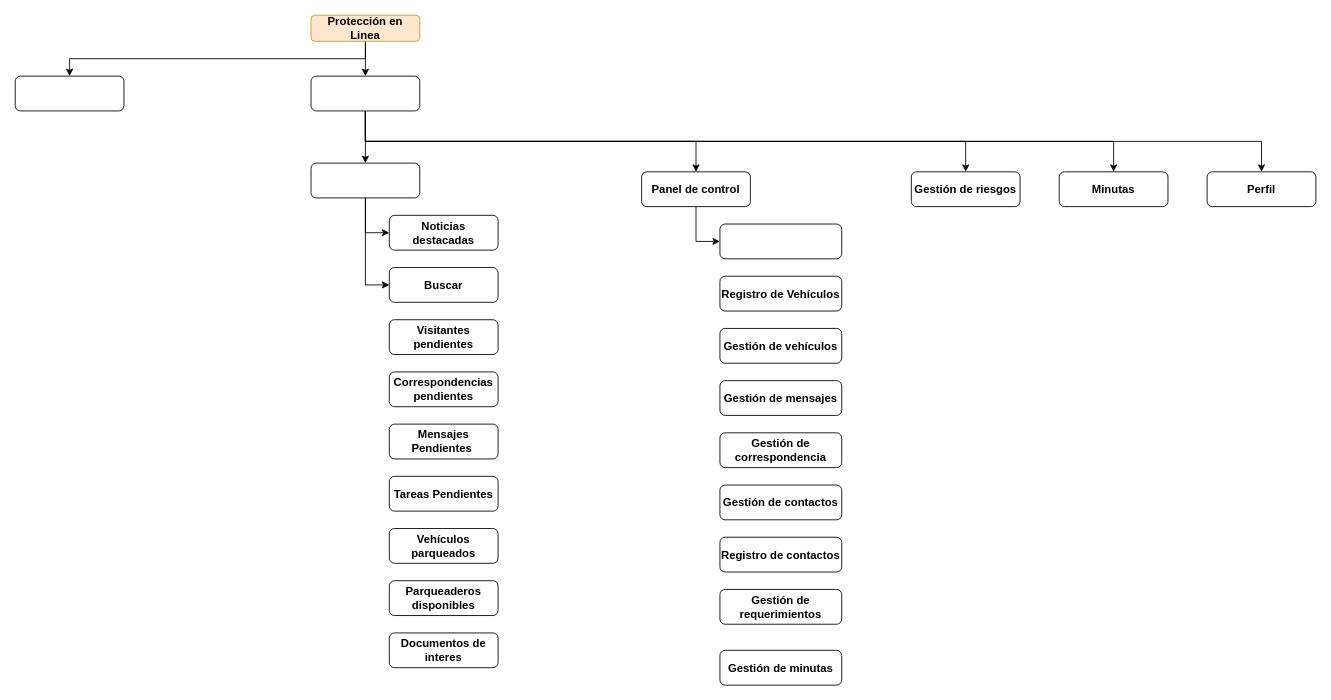
This 1331x700 diagram has some shape labels left out. Each missing label, with the box of its shape:
Administración: (14, 75, 124, 111)
Gestión de visitantes: (719, 223, 842, 259)
Porteria: (310, 162, 420, 198)
Página de Inicio: (310, 75, 420, 111)
